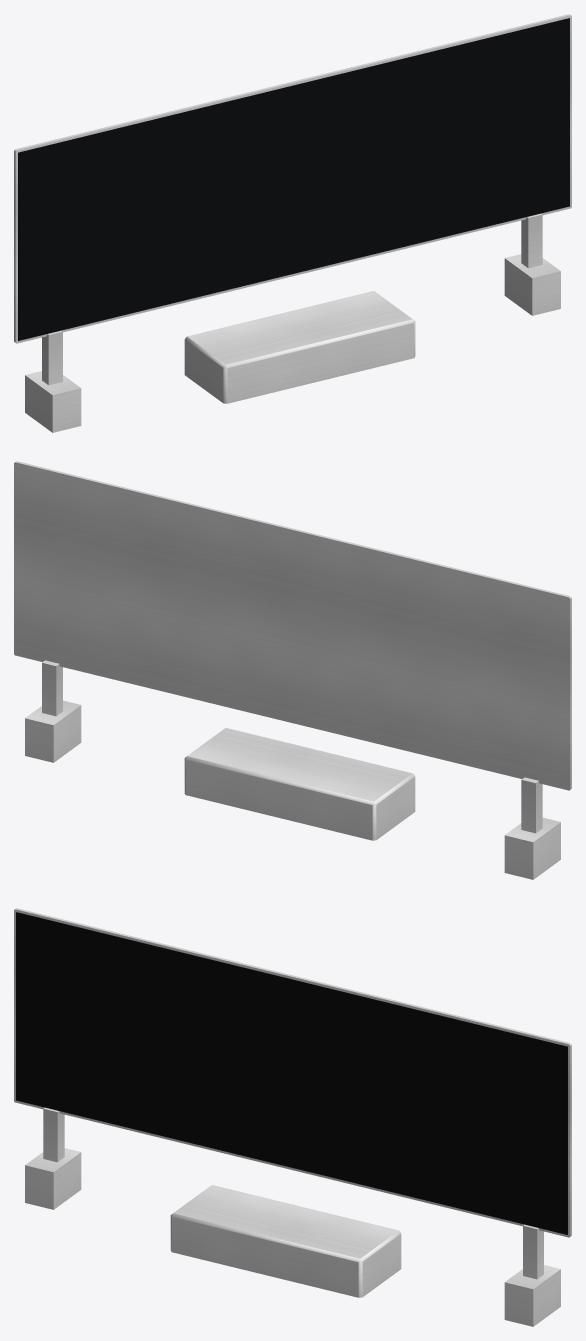
Rendered from tv_mega.obj.
The picture shows the model from 3 angles, top to bottom: view 1: azimuth 30°, elevation 25°; view 2: azimuth 150°, elevation 25°; view 3: azimuth 330°, elevation 25°; orthographic projection.
Parts seen in each view (by area): view 1: retained_25, central_equipment_box, display_housing, retained_10, retained_0, retained_15, retained_5; view 2: display_housing, central_equipment_box, retained_0, retained_10, retained_5, retained_15; view 3: retained_25, central_equipment_box, display_housing, retained_0, retained_10, retained_5, retained_15.
Boxes of the visible parts, <box> form: retained_25: <box>18,18,569,340</box>; central_equipment_box: <box>184,291,415,403</box>; display_housing: <box>14,14,571,343</box>; retained_10: <box>504,254,560,315</box>; retained_0: <box>25,371,81,432</box>; retained_15: <box>521,213,542,268</box>; retained_5: <box>42,330,62,385</box>; display_housing: <box>14,461,571,790</box>; central_equipment_box: <box>184,728,415,840</box>; retained_0: <box>504,817,560,879</box>; retained_10: <box>25,700,81,762</box>; retained_5: <box>521,777,542,833</box>; retained_15: <box>42,660,62,716</box>; retained_25: <box>16,912,567,1234</box>; central_equipment_box: <box>170,1185,401,1297</box>; display_housing: <box>14,908,571,1237</box>; retained_0: <box>25,1148,81,1209</box>; retained_10: <box>504,1265,560,1326</box>; retained_5: <box>43,1107,64,1162</box>; retained_15: <box>523,1224,543,1279</box>.
Bounding box in the file's own units: 4.64 × 2.22 × 0.6.
